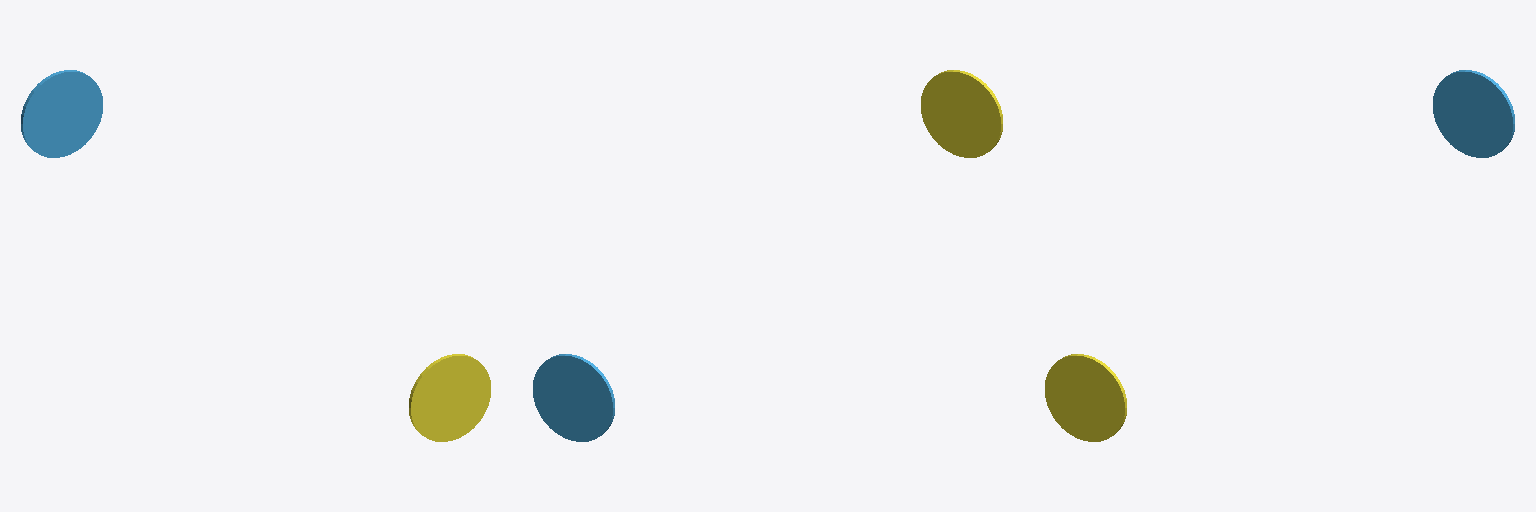
robot.urdf — four_wheeled_vehicle:
<?xml version="1.0"?>
<robot name="four_wheeled_vehicle">

  <!-- Base Link -->
  <link name="base_link">
    <inertial>
      <origin xyz="0 0 0" rpy="0 0 0"/>
      <mass value="2000"/>
      <inertia ixx="1200" ixy="0.0" ixz="0.0" iyy="2500" iyz="0.0" izz="3000"/>
    </inertial>
    <visual>
      <origin xyz="0 0 0" rpy="0 0 0"/>
      <geometry>
        <mesh filename="package://four_wheeled_vehicle/models/four_wheeled_vehicle/meshes/car.dae"/>
      </geometry>
    </visual>
    <collision>
      <origin xyz="0 0 0.12" rpy="0 0 0"/>
      <geometry>
        <box size="5.0 1.5 0.47"/>
      </geometry>
    </collision>
  </link>

  <!-- FRONT LEFT STEERING LINK -->
  <link name="front_left_steering_link">
    <inertial>
      <origin xyz="0 0 0" rpy="0 0 0"/>
      <mass value="5"/>
      <inertia ixx="0.012" ixy="0.0" ixz="0.0" iyy="0.025" iyz="0.0" izz="0.012"/>
    </inertial>
    <visual>
      <origin xyz="0 0 0" rpy="1.5708 0 0"/>
      <geometry>
        <cylinder radius="0.1" length="0.01"/>
      </geometry>
    </visual>
  </link>

  <joint name="front_left_steering_joint" type="revolute">
    <parent link="base_link"/>
    <child link="front_left_steering_link"/>
    <origin xyz="1.445 0.833 -0.024" rpy="0 0 0"/>
    <axis xyz="0 0 1"/>
    <limit lower="-0.6" upper="0.6" effort="1000000" velocity="10000"/>
  </joint>

  <!-- FRONT LEFT WHEEL LINK -->
  <link name="front_left_wheel_link">
    <inertial>
      <origin xyz="0 0 0" rpy="0 0 0"/>
      <mass value="40"/>
      <inertia ixx="1.4" ixy="0.0" ixz="0.0" iyy="2.5" iyz="0.0" izz="1.4"/>
    </inertial>
    <visual>
      <origin xyz="0 0 0" rpy="0 0 0"/>
      <geometry>
        <mesh filename="package://four_wheeled_vehicle/models/four_wheeled_vehicle/meshes/wheel_l.dae"/>
      </geometry>
    </visual>
    <collision>
      <origin xyz="0 0 0" rpy="1.5708 0 0"/>
      <geometry>
        <cylinder radius="0.35" length="0.35"/>
      </geometry>
    </collision>
  </link>

  <joint name="front_left_wheel_joint" type="revolute">
    <parent link="front_left_steering_link"/>
    <child link="front_left_wheel_link"/>
    <origin xyz="0 0 0" rpy="0 0 0"/>
    <axis xyz="0 1 0"/>
    <limit lower="-1e16" upper="1e16" effort="0" velocity="0"/>
  </joint>

  <!-- FRONT RIGHT STEERING LINK -->
  <link name="front_right_steering_link">
    <inertial>
      <origin xyz="0 0 0" rpy="0 0 0"/>
      <mass value="5"/>
      <inertia ixx="0.012" ixy="0.0" ixz="0.0" iyy="0.025" iyz="0.0" izz="0.012"/>
    </inertial>
    <visual>
      <origin xyz="0 0 0" rpy="1.5708 0 0"/>
      <geometry>
        <cylinder radius="0.1" length="0.01"/>
      </geometry>
    </visual>
  </link>

  <joint name="front_right_steering_joint" type="revolute">
    <parent link="base_link"/>
    <child link="front_right_steering_link"/>
    <origin xyz="1.445 -0.833 -0.024" rpy="0 0 0"/>
    <axis xyz="0 0 1"/>
    <limit lower="-0.6" upper="0.6" effort="1000000" velocity="10000"/>
  </joint>

  <!-- FRONT RIGHT WHEEL LINK -->
  <link name="front_right_wheel_link">
    <inertial>
      <origin xyz="0 0 0" rpy="0 0 0"/>
      <mass value="40"/>
      <inertia ixx="1.4" ixy="0.0" ixz="0.0" iyy="2.5" iyz="0.0" izz="1.4"/>
    </inertial>
    <visual>
      <origin xyz="0 0 0" rpy="0 0 0"/>
      <geometry>
        <mesh filename="package://four_wheeled_vehicle/models/four_wheeled_vehicle/meshes/wheel_r.dae"/>
      </geometry>
    </visual>
    <collision>
      <origin xyz="0 0 0" rpy="1.5708 0 0"/>
      <geometry>
        <cylinder radius="0.35" length="0.35"/>
      </geometry>
    </collision>
  </link>

  <joint name="front_right_wheel_joint" type="revolute">
    <parent link="front_right_steering_link"/>
    <child link="front_right_wheel_link"/>
    <origin xyz="0 0 0" rpy="0 0 0"/>
    <axis xyz="0 1 0"/>
    <limit lower="-1e16" upper="1e16" effort="0" velocity="0"/>
  </joint>

  <!-- REAR LEFT WHEEL LINK -->
  <link name="rear_left_wheel_link">
    <inertial>
      <origin xyz="0 0 0" rpy="0 0 0"/>
      <mass value="40"/>
      <inertia ixx="1.4" ixy="0.0" ixz="0.0" iyy="2.5" iyz="0.0" izz="1.4"/>
    </inertial>
    <visual>
      <origin xyz="0 0 0" rpy="0 0 0"/>
      <geometry>
        <mesh filename="package://four_wheeled_vehicle/models/four_wheeled_vehicle/meshes/wheel_l.dae"/>
      </geometry>
    </visual>
    <collision>
      <origin xyz="0 0 0" rpy="1.5708 0 0"/>
      <geometry>
        <cylinder radius="0.35" length="0.35"/>
      </geometry>
    </collision>
  </link>

  <joint name="rear_left_wheel_joint" type="revolute">
    <parent link="base_link"/>
    <child link="rear_left_wheel_link"/>
    <origin xyz="-1.545 0.833 -0.024" rpy="0 0 0"/>
    <axis xyz="0 1 0"/>
    <limit lower="-1e16" upper="1e16" effort="5000" velocity="10000"/>
  </joint>

  <!-- REAR RIGHT WHEEL LINK -->
  <link name="rear_right_wheel_link">
    <inertial>
      <origin xyz="0 0 0" rpy="0 0 0"/>
      <mass value="40"/>
      <inertia ixx="1.4" ixy="0.0" ixz="0.0" iyy="2.5" iyz="0.0" izz="1.4"/>
    </inertial>
    <visual>
      <origin xyz="0 0 0" rpy="0 0 0"/>
      <geometry>
        <mesh filename="package://four_wheeled_vehicle/models/four_wheeled_vehicle/meshes/wheel_r.dae"/>
      </geometry>
    </visual>
    <collision>
      <origin xyz="0 0 0" rpy="1.5708 0 0"/>
      <geometry>
        <cylinder radius="0.35" length="0.35"/>
      </geometry>
    </collision>
  </link>

  <joint name="rear_right_wheel_joint" type="revolute">
    <parent link="base_link"/>
    <child link="rear_right_wheel_link"/>
    <origin xyz="-1.545 -0.833 -0.024" rpy="0 0 0"/>
    <axis xyz="0 1 0"/>
    <limit lower="-1e16" upper="1e16" effort="5000" velocity="10000"/>
  </joint>

  <!-- CAMERA LINK -->
  <link name="kinect_link">
    <inertial>
      <origin xyz="0 0 0" rpy="0 0 0"/>
      <mass value="0.1"/>
      <inertia ixx="0.0001" ixy="0.0" ixz="0.0" iyy="0.0001" iyz="0.0" izz="0.0001"/>
    </inertial>
    <visual>
      <origin xyz="0 0 0" rpy="0 0 0"/>
      <geometry>
        <mesh filename="package://four_wheeled_vehicle/models/four_wheeled_vehicle/meshes/kinect.dae"/>
      </geometry>
    </visual>
  </link>

  <joint name="kinect_joint" type="fixed">
    <parent link="base_link"/>
    <child link="kinect_link"/>
    <origin xyz="0.15 0 1.0" rpy="0 0 0"/>
  </joint>

</robot>

--- What the picture shows (computed from the rendered views, not written in the file) ---
The picture shows the robot from 3 angles, left to right: view 1: azimuth 30°, elevation 25°; view 2: azimuth 150°, elevation 25°; view 3: azimuth 330°, elevation 25°; orthographic projection.
Model four_wheeled_vehicle with 8 links and 7 joints (6 revolute, 1 fixed), rooted at base_link, posed all joints at 0.
Links seen in each view (by area): view 1: front_left_steering_link, front_right_steering_link; view 2: front_left_steering_link, front_right_steering_link; view 3: front_left_steering_link, front_right_steering_link.
Link boxes in pixels (x1=…): front_left_steering_link: x1=21, y1=70, x2=102, y2=157; front_right_steering_link: x1=409, y1=354, x2=490, y2=441; front_left_steering_link: x1=533, y1=354, x2=614, y2=441; front_right_steering_link: x1=921, y1=70, x2=1002, y2=157; front_left_steering_link: x1=1433, y1=70, x2=1514, y2=157; front_right_steering_link: x1=1045, y1=354, x2=1126, y2=441.
Size in the robot's own frame: 0.2 by 1.68 by 0.2 metres.
0 mesh visuals loaded from 4 distinct referenced files (none loaded); not drawn: 5 (reference not matched to a file when rendering), 1 (file found but could not be loaded).